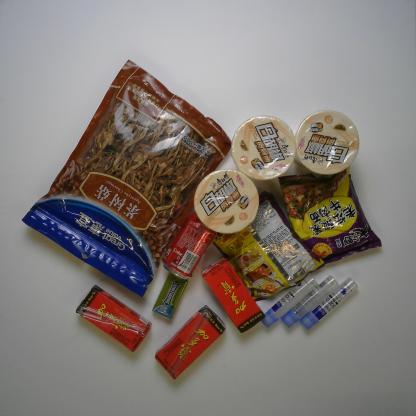Dried Food: (21, 58, 233, 299)
Drink: (154, 304, 227, 380), (75, 284, 152, 353), (201, 256, 266, 334), (161, 210, 218, 280)
Gum: (152, 272, 188, 320)
Instant Noodles: (211, 190, 326, 302), (278, 165, 383, 265), (289, 109, 360, 176), (230, 113, 296, 182), (193, 168, 260, 235)
Stationery: (280, 274, 341, 329), (260, 274, 319, 330), (299, 276, 359, 330)
